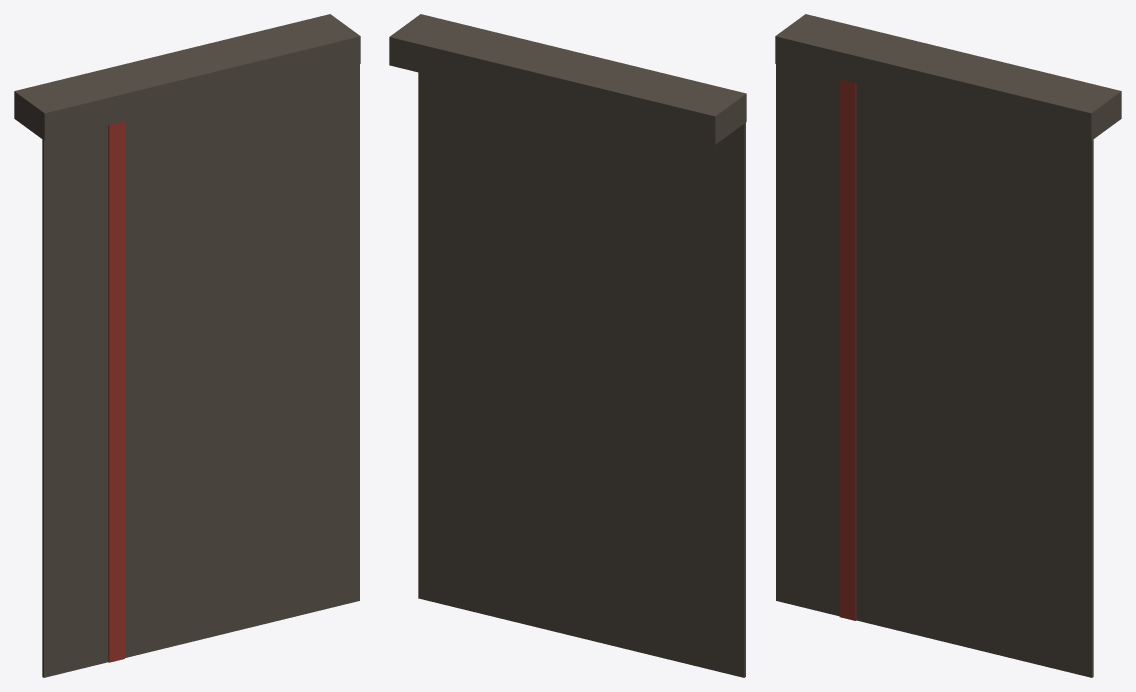
File: kitchen-tea-towel.glb
3 views of the same model, side by side, from view 1: azimuth 30°, elevation 25°; view 2: azimuth 150°, elevation 25°; view 3: azimuth 330°, elevation 25° (orthographic). The views are drawn at different scales.
Parts seen in each view (by area): view 1: fabric, accent-warm; view 2: fabric; view 3: fabric, accent-warm.
Part boxes in pixels (x1=…): fabric: x1=14, y1=14, x2=360, y2=677; accent-warm: x1=108, y1=121, x2=124, y2=662; fabric: x1=389, y1=14, x2=746, y2=677; fabric: x1=775, y1=14, x2=1121, y2=677; accent-warm: x1=839, y1=79, x2=856, y2=620.
Size of the model in its own units: 0.24 by 0.41 by 0.04.
